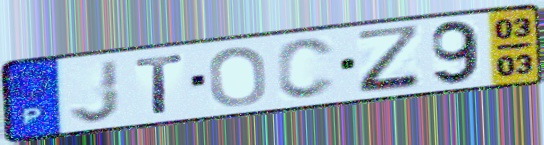9: (429, 18, 483, 87)
C: (274, 36, 339, 102)
J: (66, 57, 123, 126)
O: (206, 44, 270, 109)
T: (133, 52, 187, 117)
Z: (354, 22, 426, 96)
